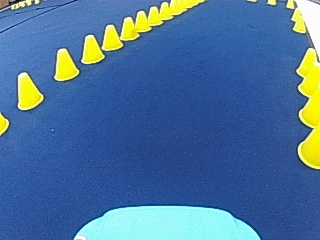cone: (15, 69, 44, 109), (297, 124, 319, 167), (296, 55, 319, 96), (53, 47, 79, 81), (298, 85, 319, 126), (80, 33, 104, 63), (295, 47, 317, 78), (101, 23, 122, 49), (120, 16, 136, 39), (133, 9, 149, 31), (146, 6, 161, 25), (292, 11, 305, 32), (158, 1, 171, 19), (0, 112, 9, 134)
